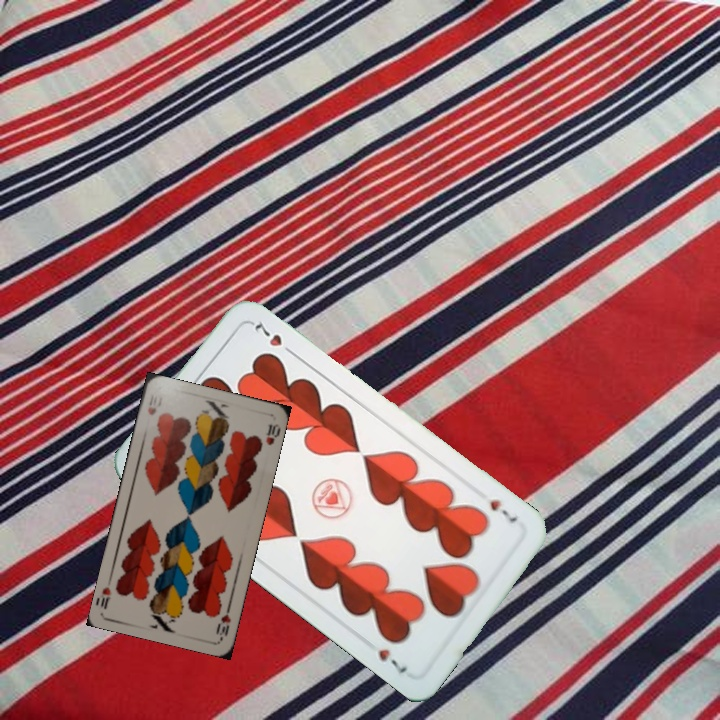H10: (212, 601, 233, 641), (144, 390, 159, 417)
H7: (485, 495, 520, 525)
